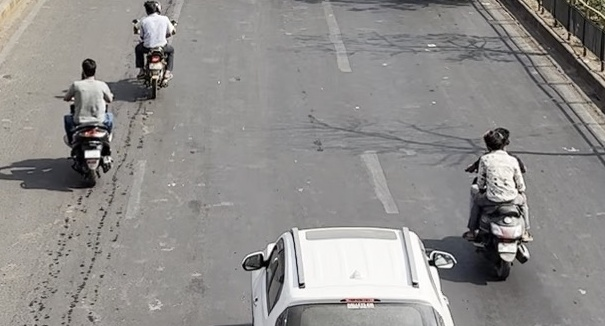BikeWithRider: (454, 121, 539, 284), (56, 53, 119, 190), (126, 0, 181, 103)
NoHelmet: (479, 123, 514, 155), (76, 54, 101, 82), (139, 0, 164, 18)
